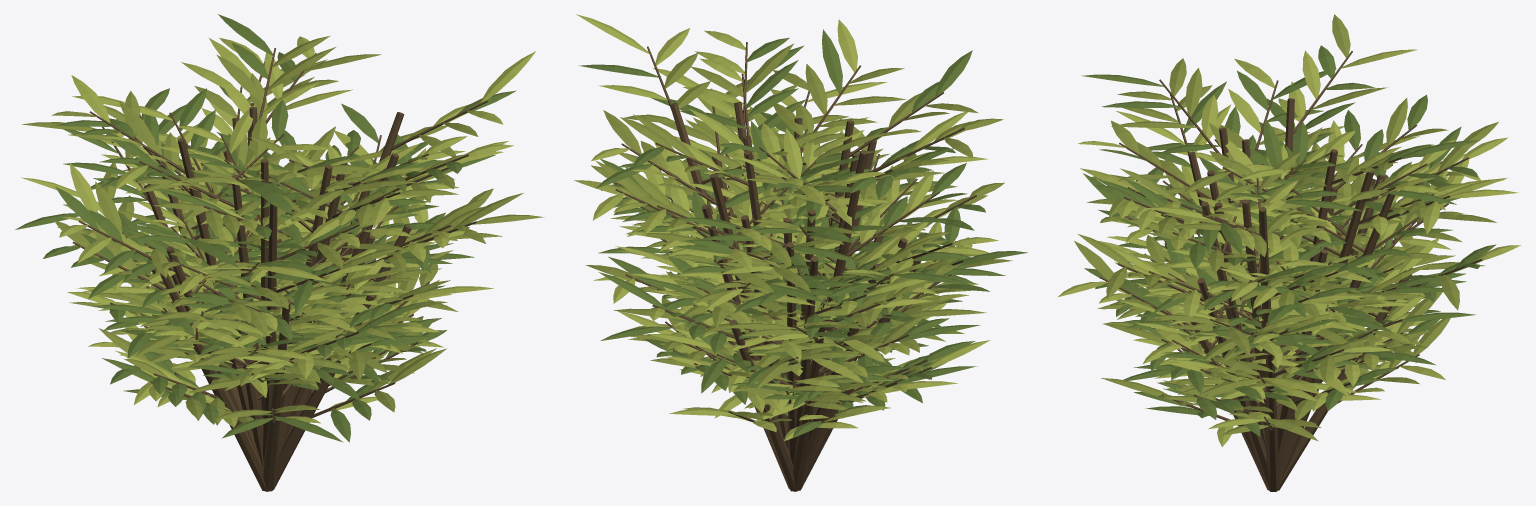
File: bush_tall.glb
The picture shows the model from 3 angles, left to right: view 1: azimuth 30°, elevation 25°; view 2: azimuth 150°, elevation 25°; view 3: azimuth 270°, elevation 25°; orthographic projection. The views are drawn at different scales.
Parts seen in each view (by area): view 1: bush_tall; view 2: bush_tall; view 3: bush_tall.
Part boxes in pixels (x1,y1,x2,y2): bush_tall: (15,14,544,491); bush_tall: (574,14,1027,491); bush_tall: (1058,14,1520,491).
Size of the model in its own units: 2.43 by 1.94 by 2.11.
